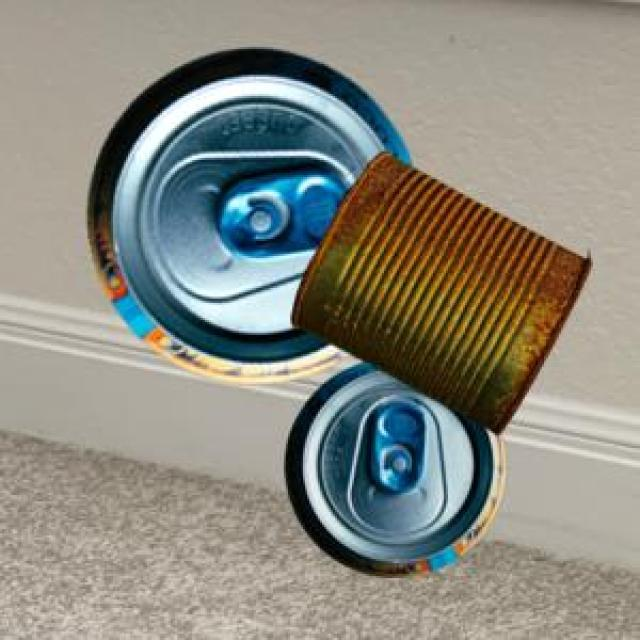Can: (84, 46, 409, 381), (289, 148, 588, 432), (283, 359, 505, 575)
